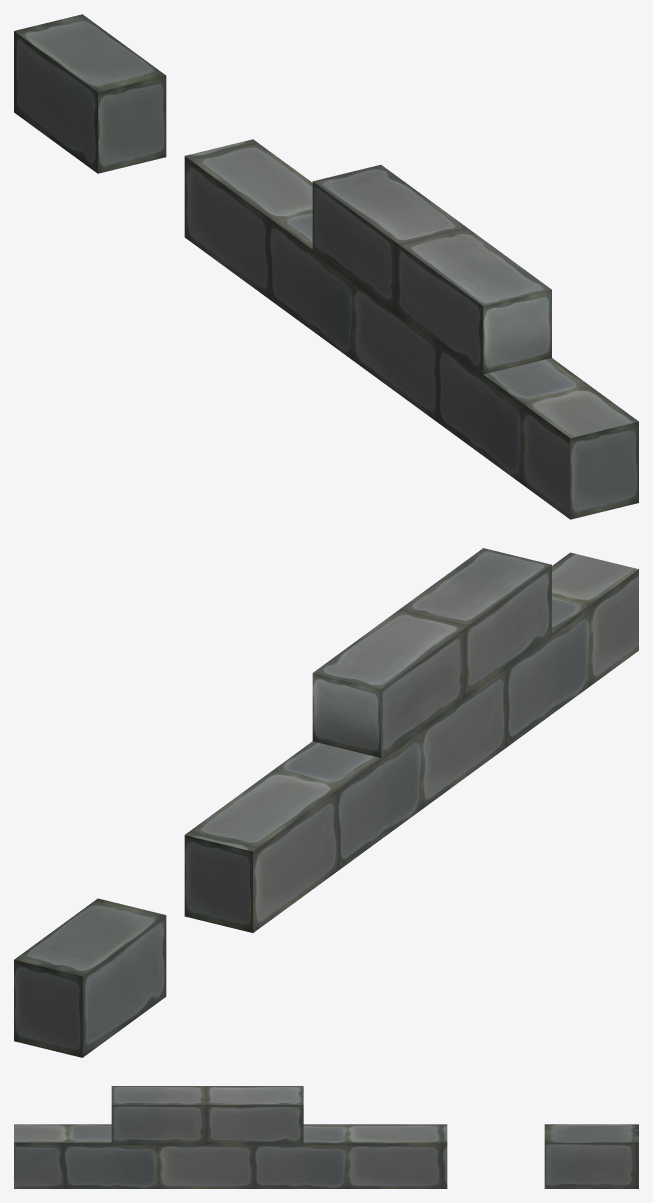
The model's file is wallTopper2.FBX.
3 renders of one model, top to bottom at view 1: azimuth 30°, elevation 25°; view 2: azimuth 150°, elevation 25°; view 3: azimuth 270°, elevation 25°, orthographic. The views are drawn at different scales.
Parts seen in each view (by area): view 1: wall_topper2; view 2: wall_topper2; view 3: wall_topper2.
Boxes of the visible parts, x1=… form: wall_topper2: x1=14, y1=14, x2=638, y2=519; wall_topper2: x1=14, y1=548, x2=638, y2=1057; wall_topper2: x1=14, y1=1086, x2=638, y2=1188.
Bounding box in the file's own units: 13.23 × 27.6 × 186.
1 material, 1 textured.
